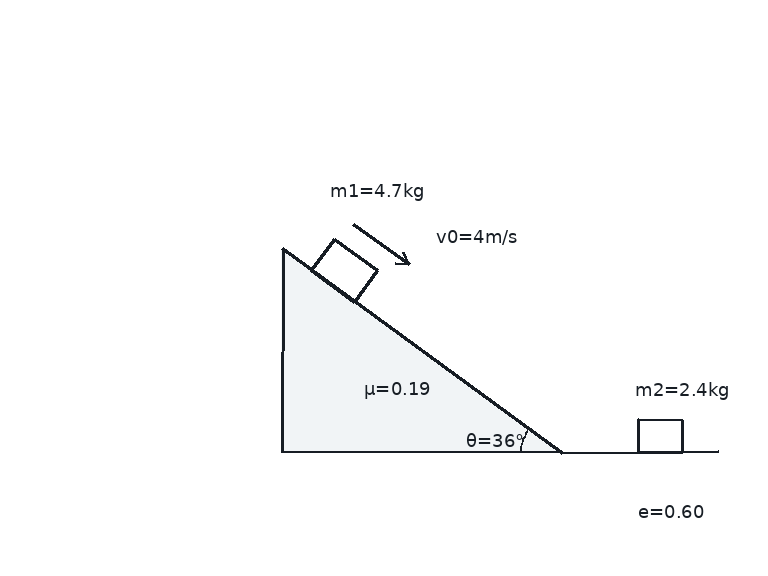block: (309, 237, 379, 304), (636, 418, 684, 454)
ramp: (280, 247, 563, 454)
